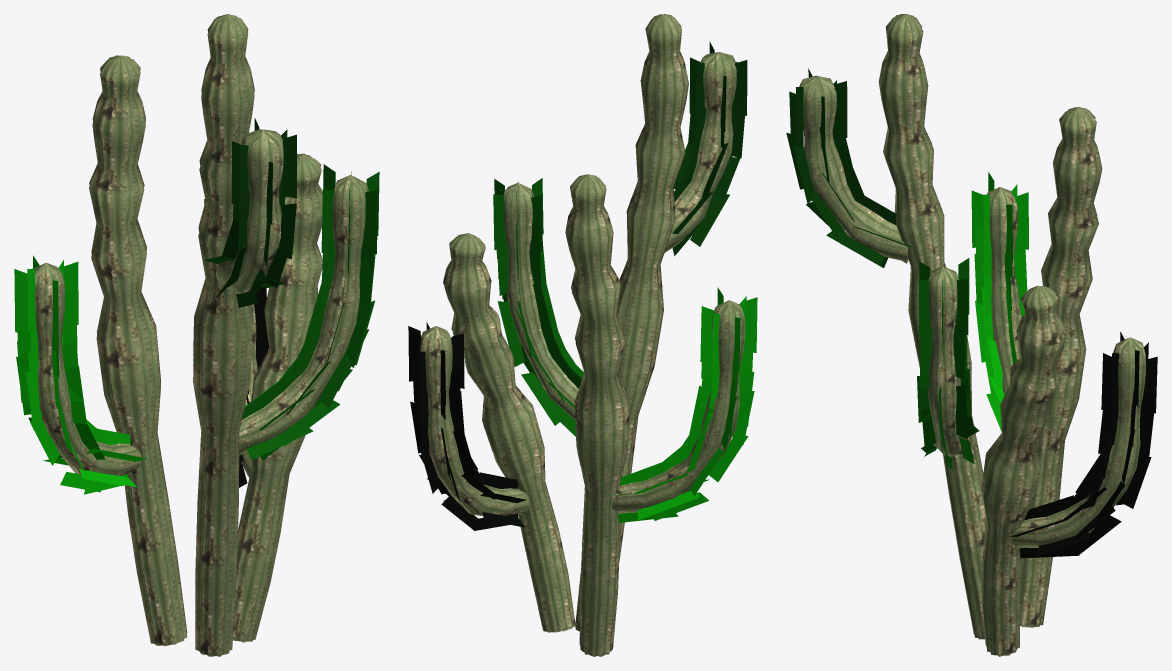
Rendered from cactus_2.fbx.
3 renders of one model, left to right at view 1: azimuth 30°, elevation 25°; view 2: azimuth 150°, elevation 25°; view 3: azimuth 270°, elevation 25°, orthographic. The views are drawn at different scales.
Visible parts, largest first — view 1: plant07_0, thorns_1; view 2: plant07_0, thorns_1; view 3: plant07_0, thorns_1.
Boxes of the visible parts, <box> form: plant07_0: <box>33,14,368,656</box>; thorns_1: <box>14,118,379,494</box>; plant07_0: <box>420,14,745,656</box>; thorns_1: <box>408,41,757,530</box>; plant07_0: <box>799,14,1145,656</box>; thorns_1: <box>786,68,1157,558</box>.
Size of the model in its own units: 115 by 229 by 127.
